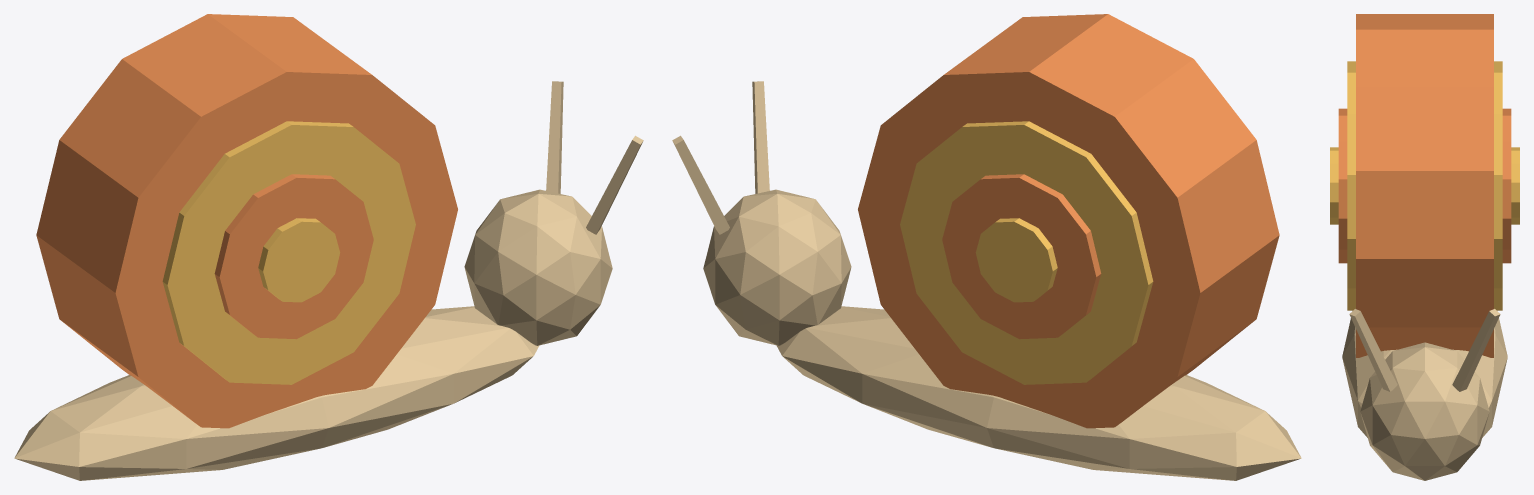
File: deco_snail.obj
3 views of the same model, side by side, from view 1: azimuth 30°, elevation 25°; view 2: azimuth 150°, elevation 25°; view 3: azimuth 270°, elevation 25° (orthographic). The views are drawn at different scales.
Parts seen in each view (by area): view 1: deco_snail; view 2: deco_snail; view 3: deco_snail.
Part boxes in pixels (x1,y1,x2,y2): deco_snail: (14, 14, 643, 480); deco_snail: (672, 14, 1301, 480); deco_snail: (1330, 14, 1519, 480).
Size of the model in its own units: 0.0688 by 0.0454 by 0.022.
Materials: 1 (1 with a texture image).
